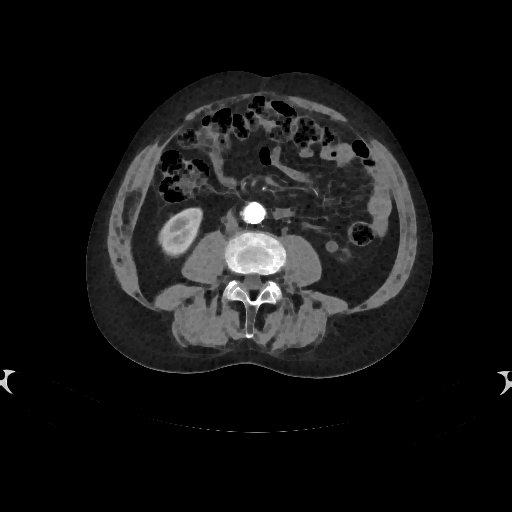Lesion: (322, 235, 342, 257)
